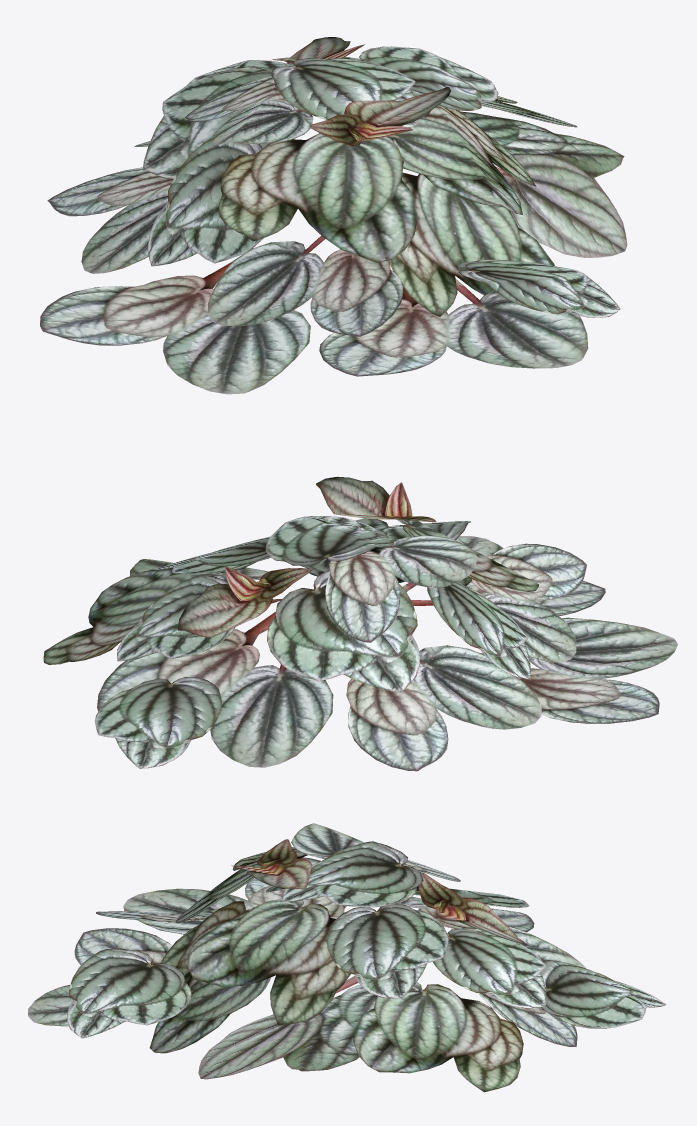
The model's file is Peperomia2.fbx.
3 views of the same model, one above another, from view 1: azimuth 30°, elevation 25°; view 2: azimuth 150°, elevation 25°; view 3: azimuth 270°, elevation 25° (orthographic). The views are drawn at different scales.
Visible parts, largest first — view 1: Peperomia2; view 2: Peperomia2; view 3: Peperomia2.
Part boxes in pixels (bbox=[...]): Peperomia2: bbox=[40, 37, 627, 394]; Peperomia2: bbox=[43, 476, 677, 771]; Peperomia2: bbox=[28, 823, 666, 1092].
Bounding box in the file's own units: 76.13 × 22.52 × 78.59.
